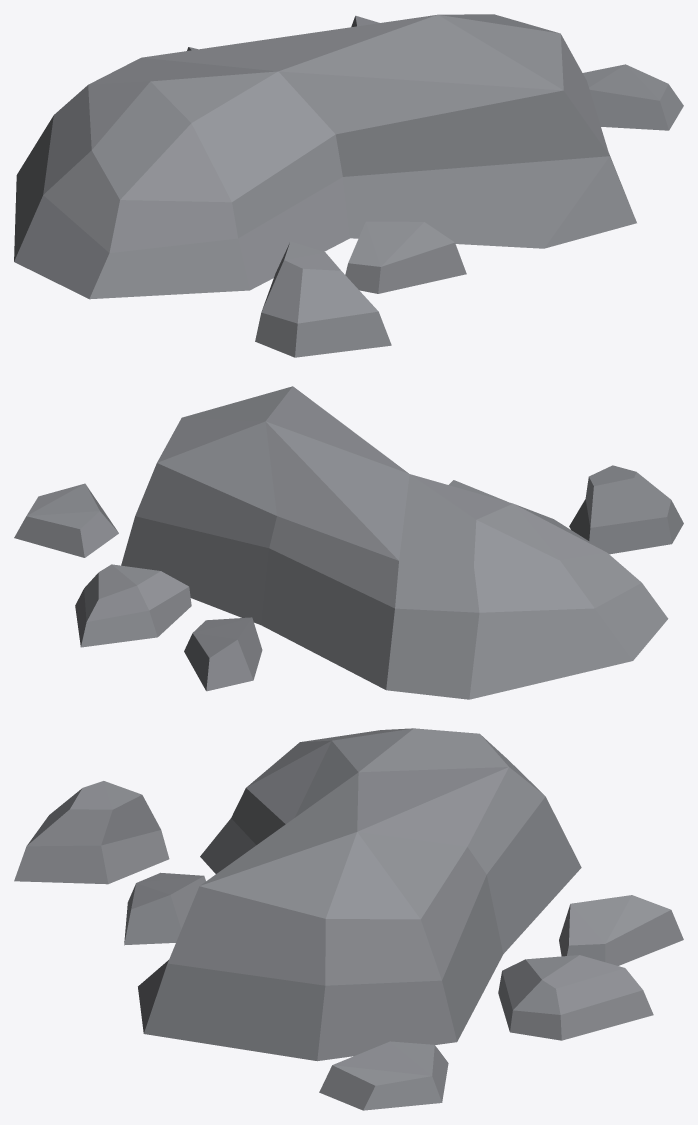
Rendered from stone_6.fbx.
3 renders of one model, top to bottom at view 1: azimuth 30°, elevation 25°; view 2: azimuth 150°, elevation 25°; view 3: azimuth 270°, elevation 25°, orthographic. The views are drawn at different scales.
Parts seen in each view (by area): view 1: stone_6; view 2: stone_6; view 3: stone_6.
Part boxes in pixels (box(x1,y1,x2,y2)): stone_6: box(14, 14, 683, 357); stone_6: box(14, 386, 683, 699); stone_6: box(14, 728, 683, 1110).
Size of the model in its own units: 206 by 45.67 by 178.
